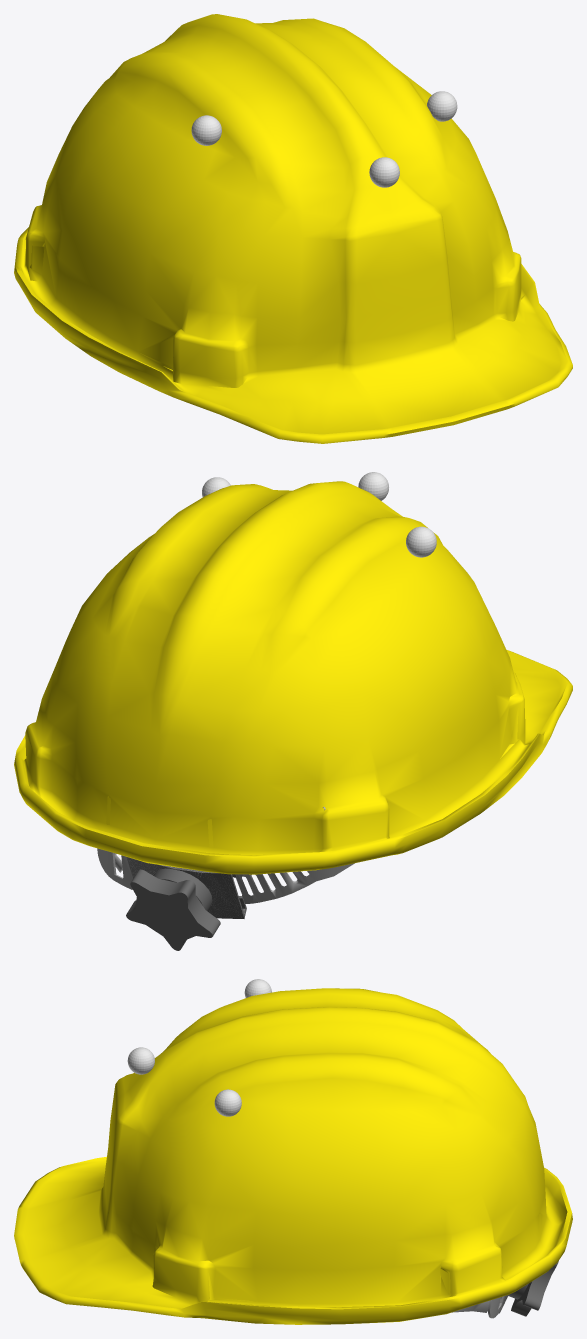
Rendered from hardhat.dae.
3 views of the same model, one above another, from view 1: azimuth 30°, elevation 25°; view 2: azimuth 150°, elevation 25°; view 3: azimuth 270°, elevation 25° (orthographic). The views are drawn at different scales.
Visible parts, largest first — view 1: group_8_003, Sphere_002, Sphere, Sphere_001; view 2: group_8_003, Sphere, Sphere_002; view 3: group_8_003, Sphere_001, Sphere_002.
Boxes of the visible parts, x1,y1,x2,y2 form: group_8_003: [14, 14, 572, 443]; Sphere_002: [369, 157, 399, 187]; Sphere: [191, 115, 221, 145]; Sphere_001: [427, 91, 457, 121]; group_8_003: [14, 481, 572, 950]; Sphere: [406, 526, 436, 557]; Sphere_002: [358, 472, 388, 500]; group_8_003: [14, 988, 572, 1324]; Sphere_001: [214, 1089, 241, 1116]; Sphere_002: [127, 1047, 154, 1074].
Size of the model in its own units: 0.2333 by 0.3012 by 0.187.
